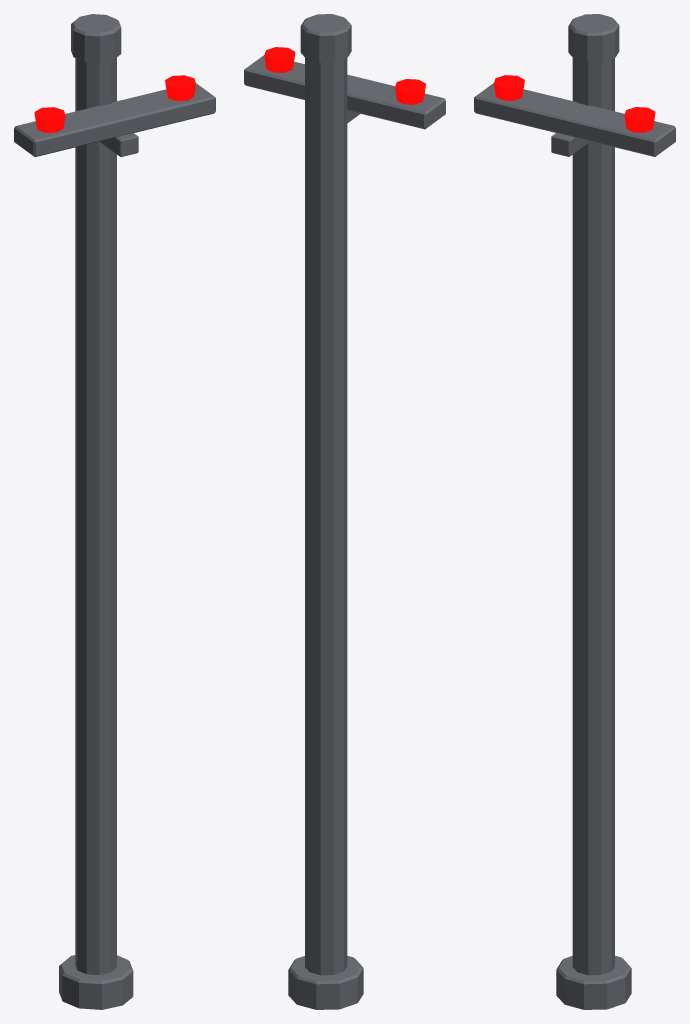
The model's file is SM_Electric_Pole_1A.fbx.
The picture shows the model from 3 angles, left to right: view 1: azimuth 30°, elevation 25°; view 2: azimuth 150°, elevation 25°; view 3: azimuth 330°, elevation 25°; orthographic projection.
Visible parts, largest first — view 1: SM_Electric_Pole_1A_LOD0; view 2: SM_Electric_Pole_1A_LOD0; view 3: SM_Electric_Pole_1A_LOD0.
Boxes of the visible parts, x1=… form: SM_Electric_Pole_1A_LOD0: x1=14, y1=14, x2=215, y2=1009; SM_Electric_Pole_1A_LOD0: x1=244, y1=14, x2=445, y2=1009; SM_Electric_Pole_1A_LOD0: x1=474, y1=14, x2=675, y2=1009.
Bounding box in the file's own units: 200 × 98.38 × 1016.
1 material, 1 textured.
